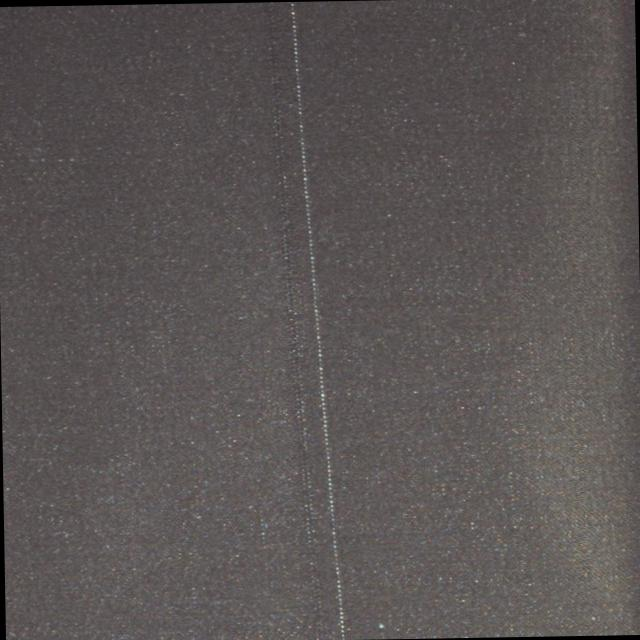Warp_Weft: (275, 0, 348, 639)
